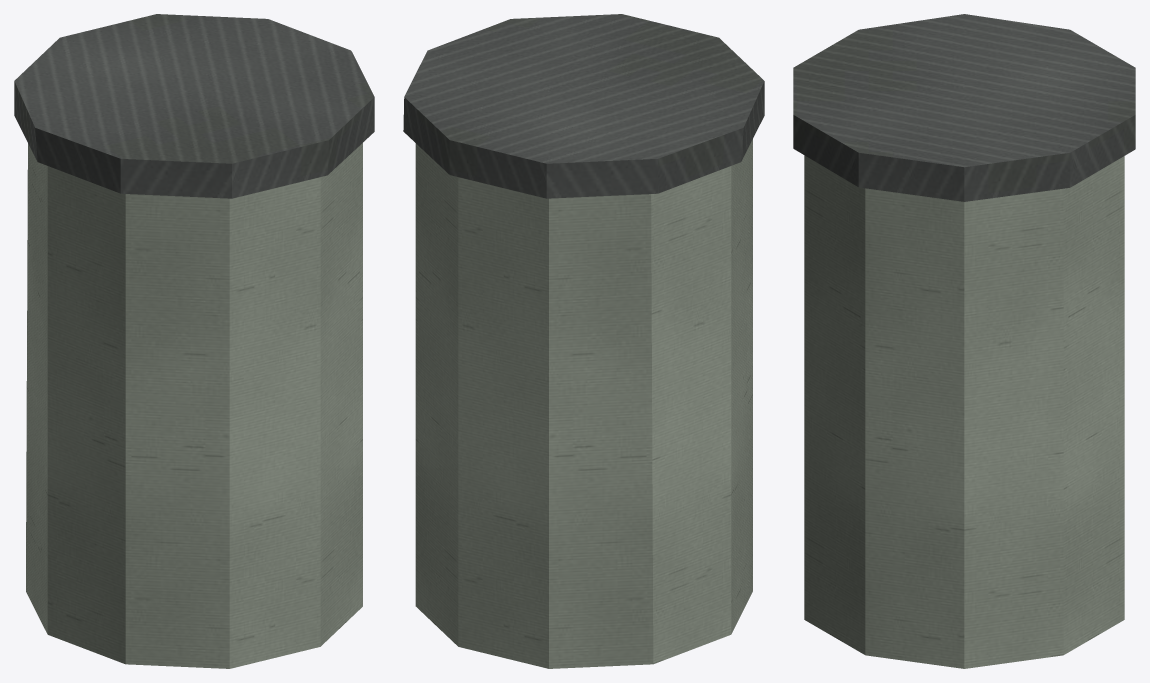
File: trashcan_v1.glb
3 renders of one model, left to right at view 1: azimuth 30°, elevation 25°; view 2: azimuth 150°, elevation 25°; view 3: azimuth 270°, elevation 25°, orthographic.
Parts seen in each view (by area): view 1: Variant_trashcan_1; view 2: Variant_trashcan_1; view 3: Variant_trashcan_1.
Boxes of the visible parts, x1,y1,x2,y2 form: Variant_trashcan_1: (14, 14, 374, 668); Variant_trashcan_1: (403, 14, 764, 668); Variant_trashcan_1: (793, 14, 1135, 668).
Size of the model in its own units: 0.4736 by 0.73 by 0.447.
Materials: 2 (2 with a texture image).
